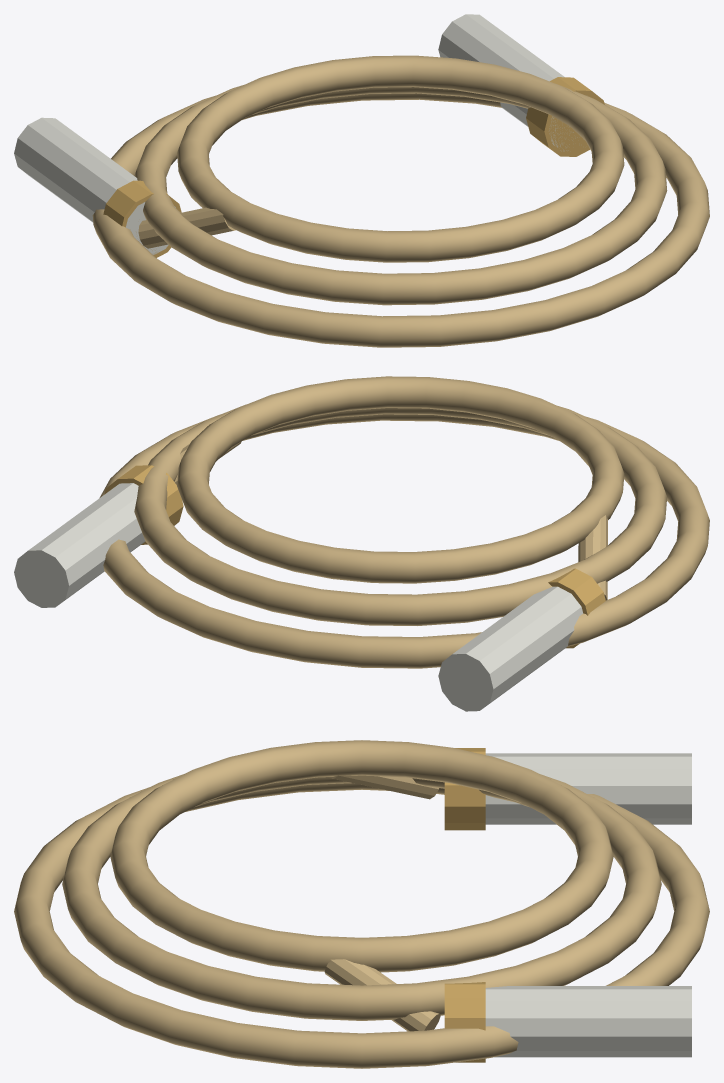
File: game_skipping_rope.glb
3 views of the same model, one above another, from view 1: azimuth 30°, elevation 25°; view 2: azimuth 150°, elevation 25°; view 3: azimuth 270°, elevation 25° (orthographic). The views are drawn at different scales.
Parts seen in each view (by area): view 1: Coiled rope.002, Coiled rope, Coiled rope.001, Tint.003, Handle ferrule.001, Handle ferrule, Rope end.001; view 2: Coiled rope.002, Coiled rope.001, Coiled rope, Tint.003, Handle ferrule, Handle ferrule.001, Rope end.001; view 3: Coiled rope.002, Coiled rope, Coiled rope.001, Tint.003, Handle ferrule.001, Handle ferrule, Rope end, Rope end.001.
Part boxes in pixels (box(x1,y1,x2,y2)): Coiled rope.002: box(177, 55, 624, 262); Coiled rope: box(92, 93, 709, 347); Coiled rope.001: box(134, 83, 667, 305); Tint.003: box(14, 14, 577, 254); Handle ferrule.001: box(526, 77, 604, 156); Handle ferrule: box(103, 180, 181, 257); Rope end.001: box(138, 207, 235, 248); Coiled rope.002: box(177, 376, 624, 583); Coiled rope.001: box(134, 404, 667, 625); Coiled rope: box(99, 414, 709, 668); Tint.003: box(14, 483, 583, 711); Handle ferrule: box(548, 568, 605, 648); Handle ferrule.001: box(104, 465, 183, 544); Rope end.001: box(578, 515, 607, 600); Coiled rope.002: box(110, 740, 613, 972); Coiled rope: box(14, 783, 709, 1068); Coiled rope.001: box(62, 774, 661, 1020); Tint.003: box(485, 753, 691, 1057); Handle ferrule.001: box(444, 982, 485, 1062); Handle ferrule: box(444, 748, 485, 830); Rope end: box(324, 959, 440, 1031); Rope end.001: box(328, 775, 438, 799).
Size of the model in its own units: 0.506 by 0.0814 by 0.506.
